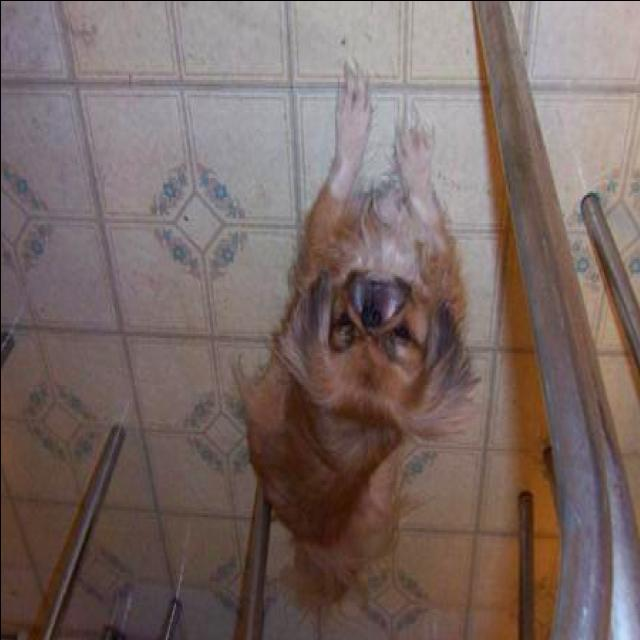pekinese: (232, 62, 482, 608)
